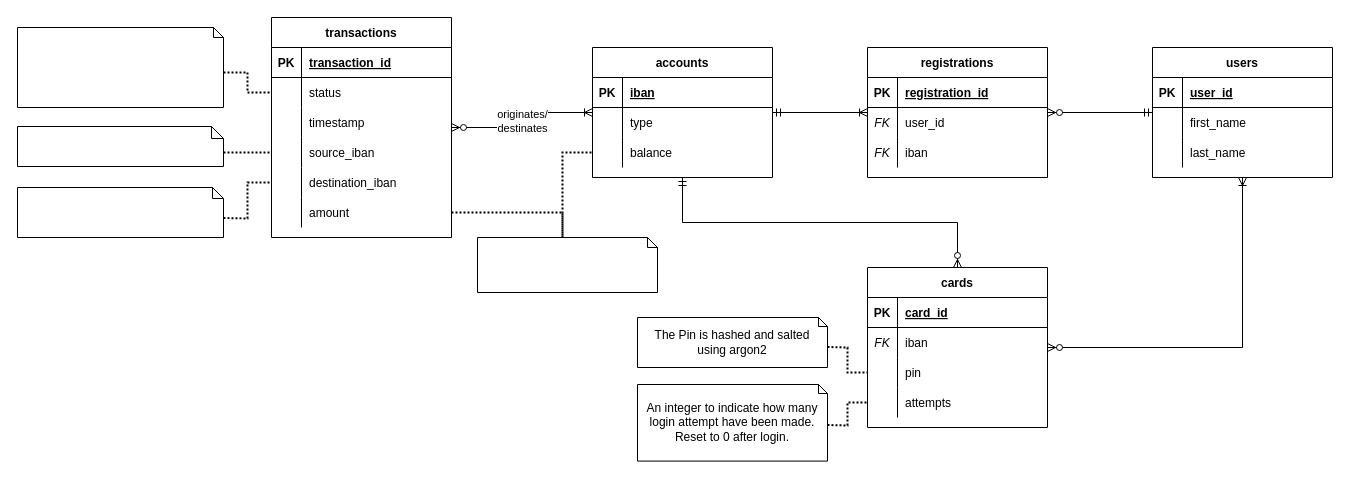
Some shapes in this 1350 by 479 pixel diagram are drawn without their labels. The centre of each missing label's shape, as x and y in pixels:
An empty destination signifies a withdrawal: [120,212]
An empty source signifies a deposit: [120,146]
Money is stored in EUR * 100. i.e. €420,69 would become 42069: [567,264]
Transaction status, can be either PENDING, CANCELLED, FINISHED: [120,67]
